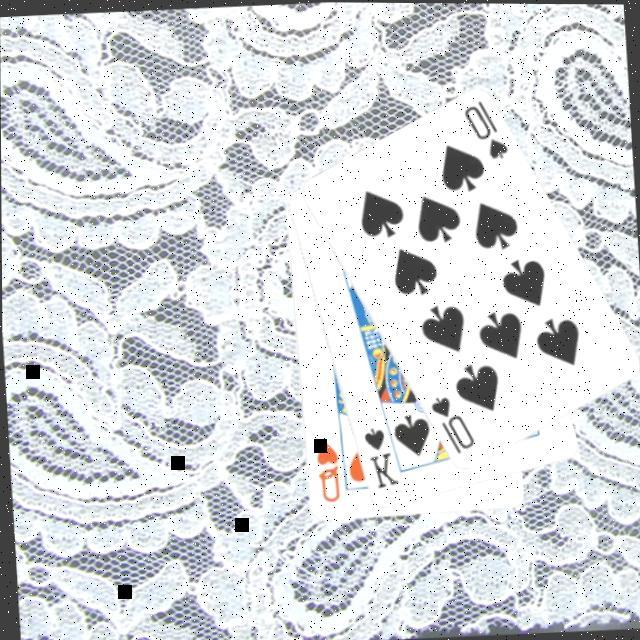10S: (458, 94, 509, 162), (426, 391, 476, 456)
KS: (357, 420, 400, 490)
QH: (310, 436, 342, 504)
